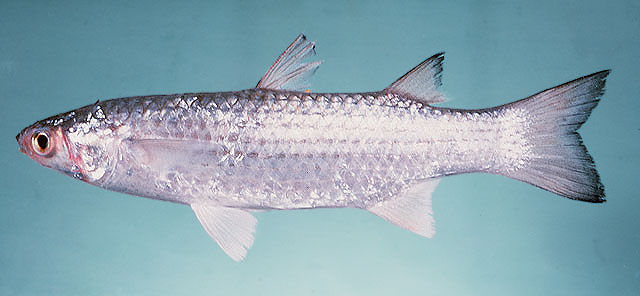fish: (15, 32, 609, 264)
